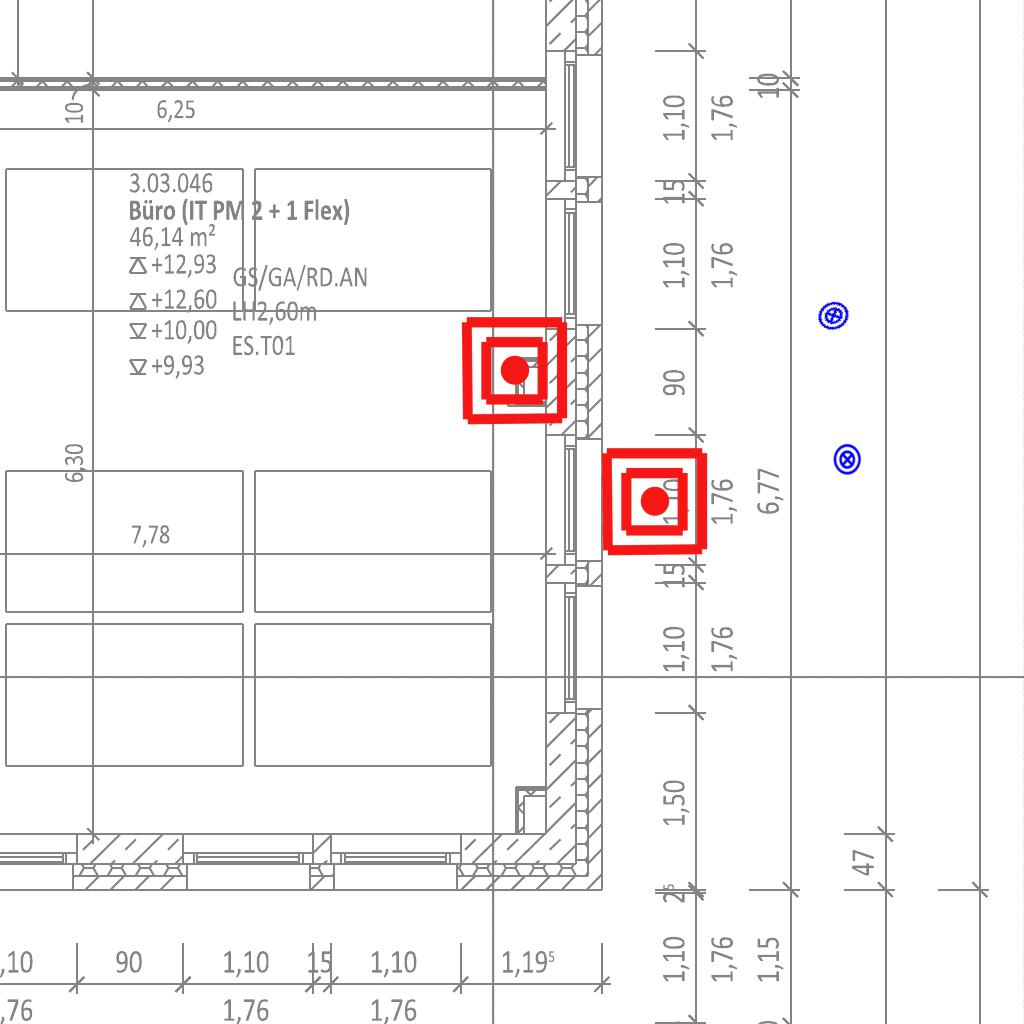NAM-Nichtautomatischer_Melder: (598, 445, 711, 558), (458, 314, 571, 427)
Taster_beleuchtet: (811, 293, 856, 338), (831, 443, 864, 476)
